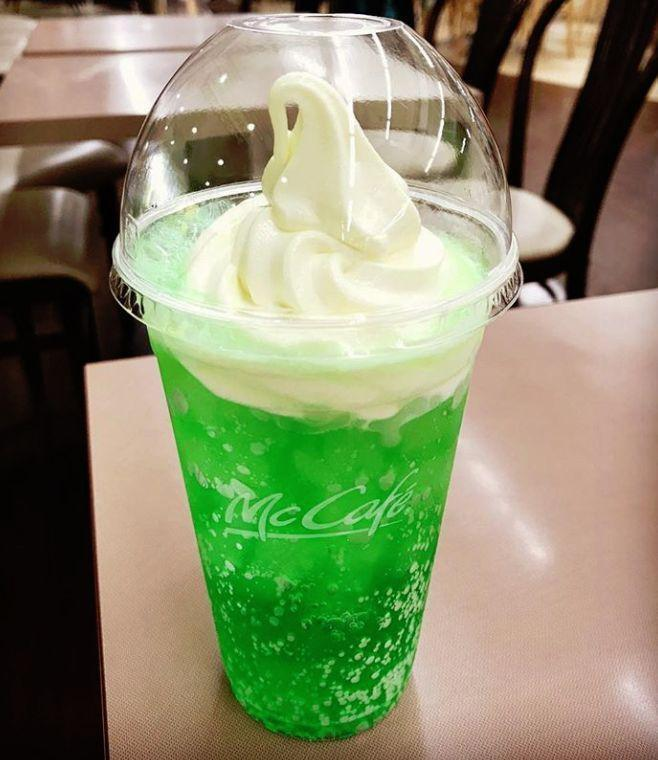cup-disposable: (107, 3, 523, 746)
